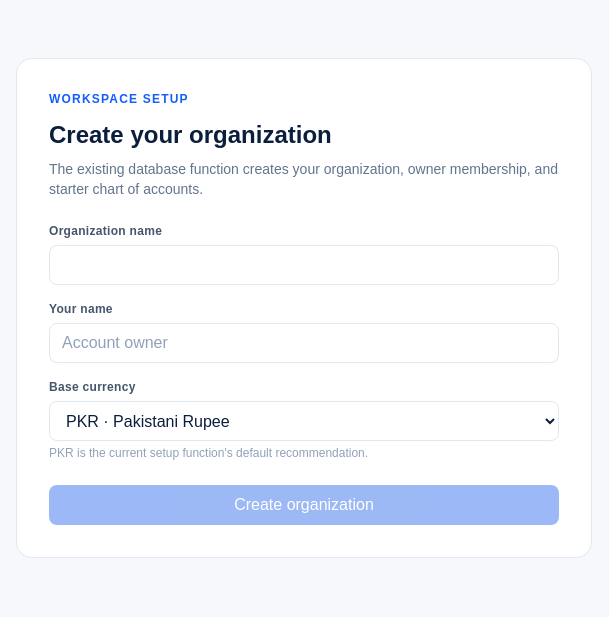
Scenario: organization setup recovery › retries selecting an already-created organization without creating a duplicate
This screenshot has width=609, height=617.
Later steps or results of the test are not shown.
In the field labelled "Organization name": (304, 265) left=49, top=245, right=559, bottom=285, type "Linkora Test"
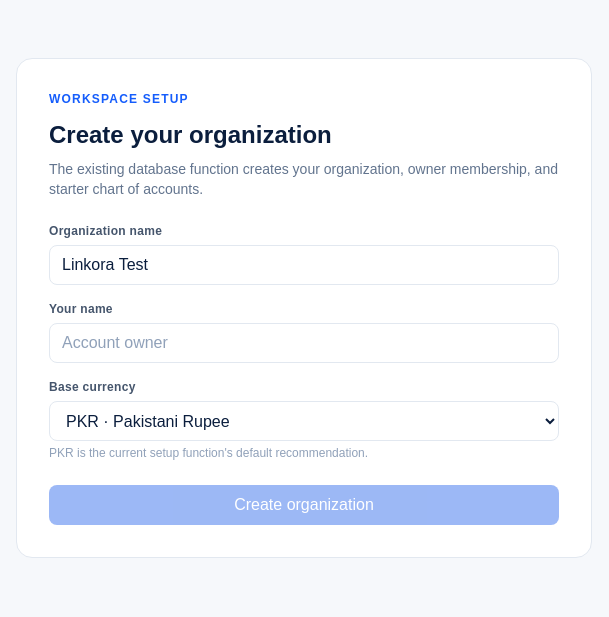
In the field labelled "Your name": (304, 343) left=49, top=323, right=559, bottom=363, type "Owner"
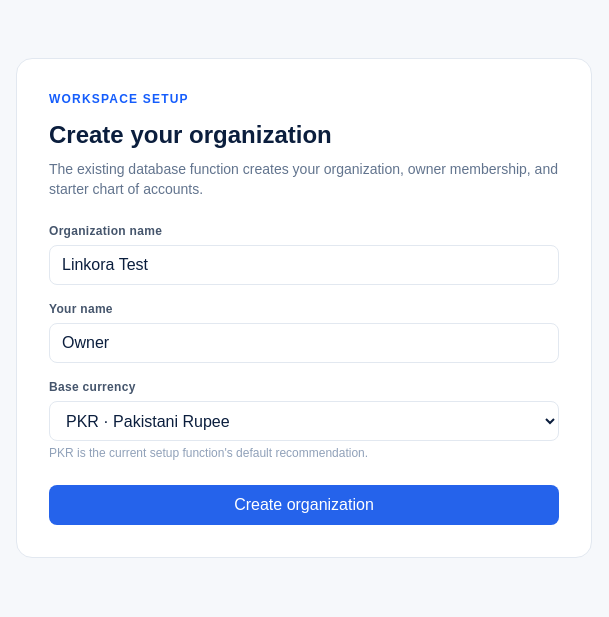
Submit the form named "Organization name"
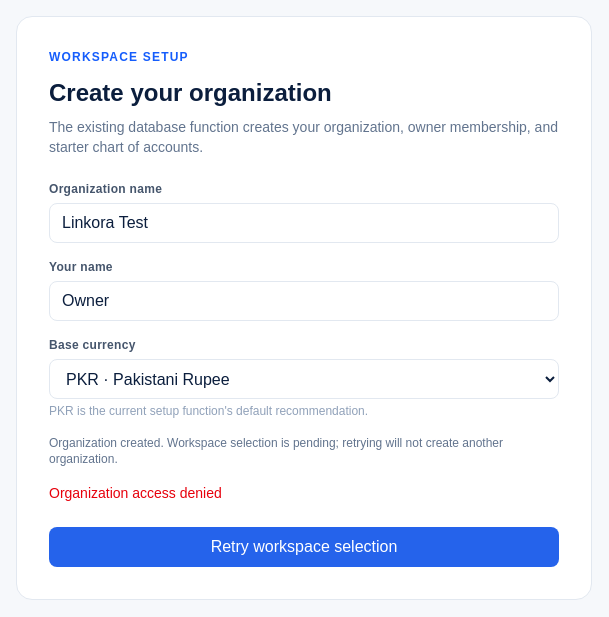
Now the button "Retry workspace selection" is enabled, box left=49, top=527, right=559, bottom=567
Now the message reads "Organization access denied", box left=49, top=485, right=222, bottom=501
